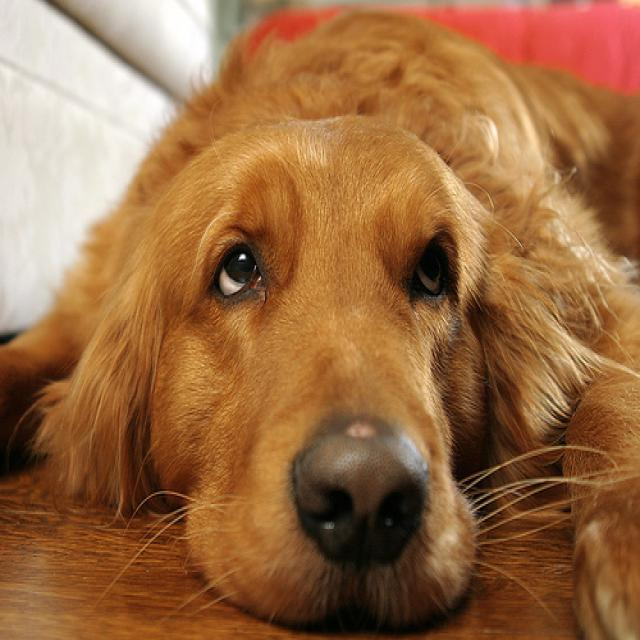dog: (1, 1, 640, 638)
